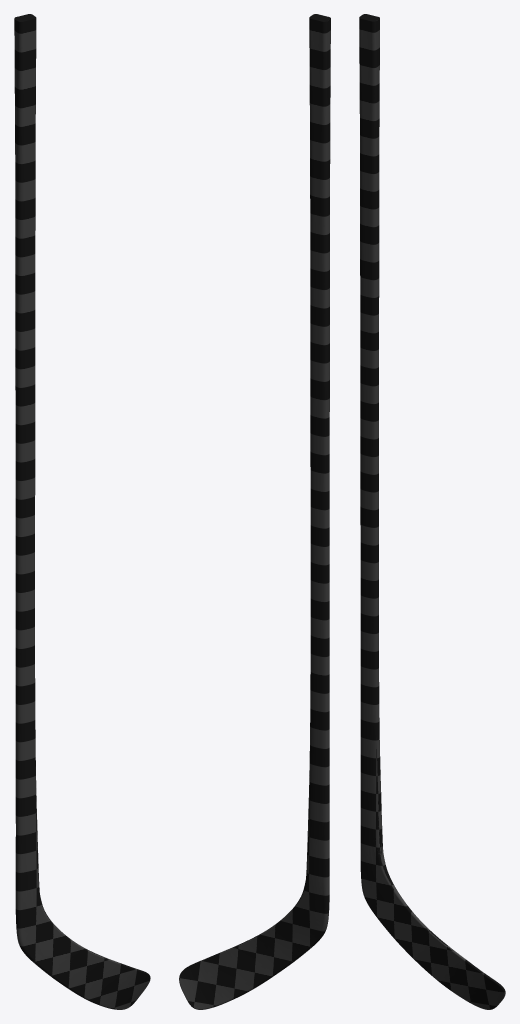
Rendered from P39-SBO.glb.
3 views of the same model, side by side, from view 1: azimuth 30°, elevation 25°; view 2: azimuth 150°, elevation 25°; view 3: azimuth 330°, elevation 25° (orthographic). The views are drawn at different scales.
Visible parts, largest first — view 1: geometry_0; view 2: geometry_0; view 3: geometry_0.
Boxes of the visible parts, x1,y1,x2,y2 form: geometry_0: (14, 14, 150, 1009); geometry_0: (179, 14, 330, 1009); geometry_0: (359, 14, 505, 1009).
Bounding box in the file's own units: 240 × 1650 × 46.74.
1 material, 1 textured.
